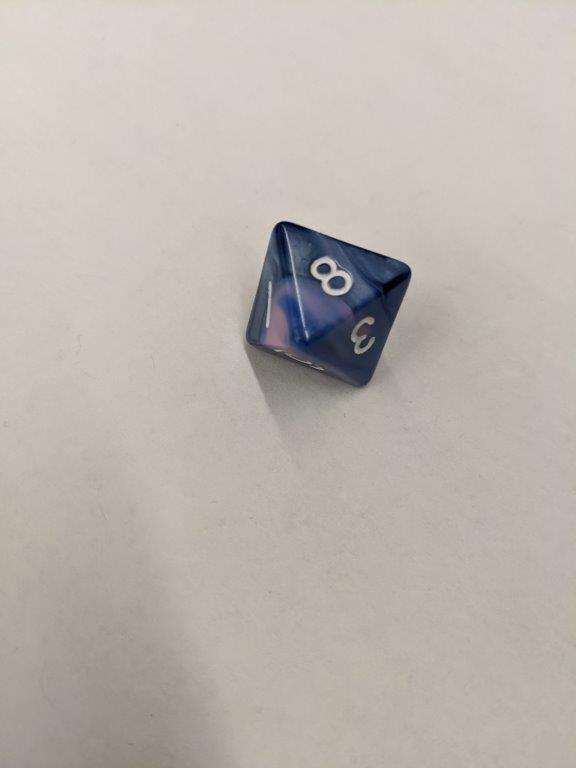d8-8: (244, 218, 414, 394)
